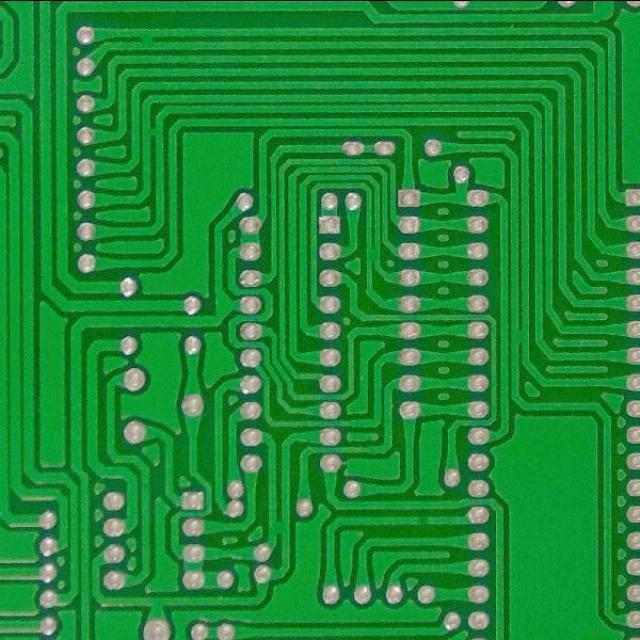Short_Circuit: (133, 24, 162, 54), (264, 513, 294, 541), (509, 322, 532, 350), (141, 122, 167, 145), (363, 244, 383, 266)
